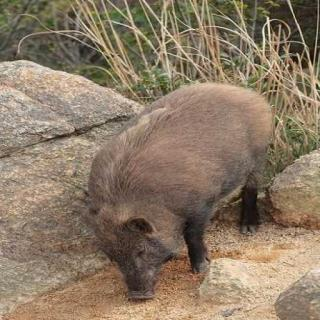Pig: (68, 73, 306, 314)
